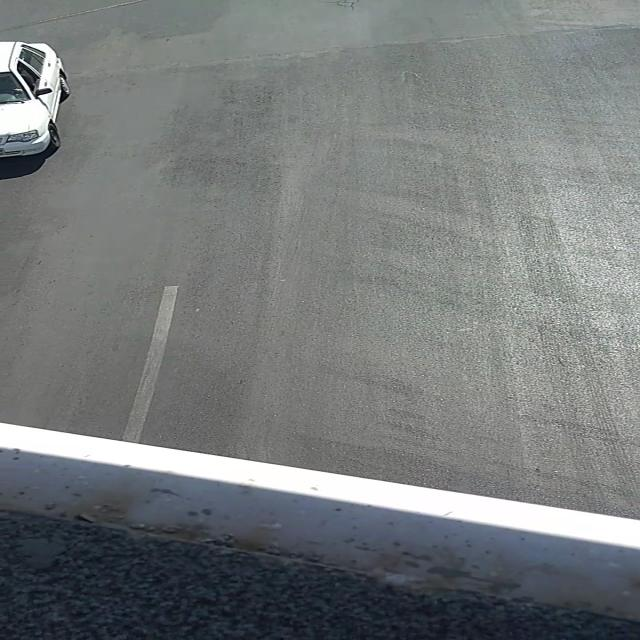car: (2, 40, 72, 156)
